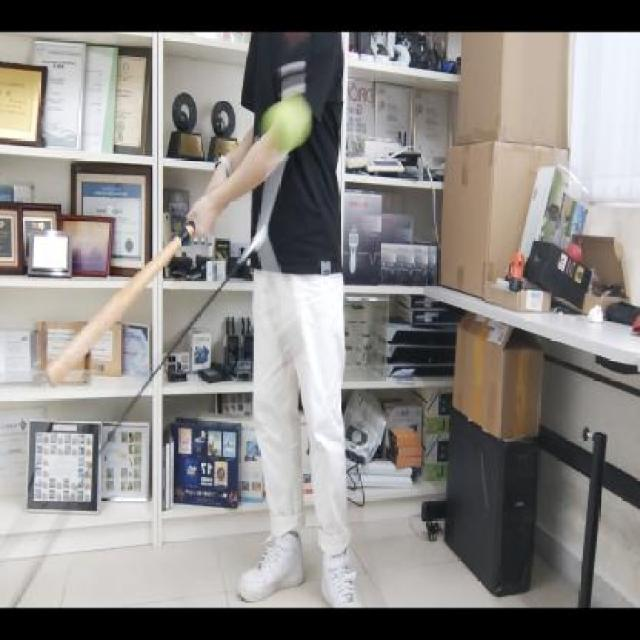baseball: (258, 92, 318, 154)
